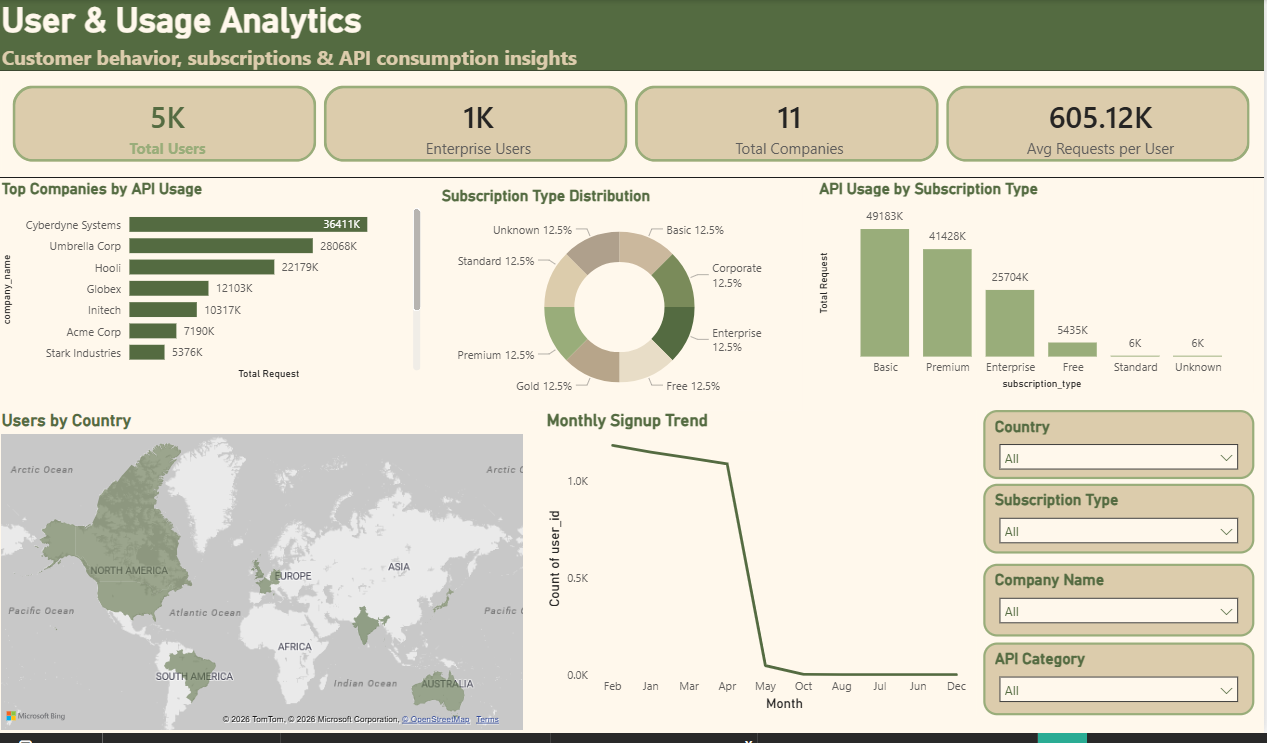

This screenshot's page, from the dashboard's own definition file:
{"tool":"powerbi","page":{"name":"User & Usage Analytics","canvas":[1366,790],"ordinal":2},"visuals":[{"type":"cardVisual","fields":{"Data":["Measure.Total Users","Measure.Enterprise Users","Measure.Total Companies","Measure.Avg Requests per User"]},"box":[0,76,1366.7,116],"z":0},{"type":"textbox","title":"User & Usage Analytics","box":[0,0,1366.7,76],"z":1000},{"type":"lineChart","title":"Monthly Signup Trend","fields":{"Y":["CountNonNull(api_usage.user_id)"],"Category":["DateTable.Month"]},"box":[586.7,441.3,468,329.3],"z":2000},{"type":"donutChart","title":"Subscription Type Distribution","fields":{"Y":["CountNonNull(api_logs.log_id)"],"Category":["users.subscription_type"]},"box":[473.3,200,393.3,241.3],"z":4000},{"type":"slicer","title":"Country","fields":{"Values":["users.country"]},"box":[1062.2,441.6,292.1,74],"z":5000},{"type":"slicer","title":"Company Name","fields":{"Values":["users.company_name"]},"box":[1062.2,607.2,292.1,78.1],"z":6000},{"type":"slicer","title":"Subscription Type","fields":{"Values":["users.subscription_type"]},"box":[1062.2,521,292.1,75.4],"z":7000},{"type":"clusteredBarChart","title":"Top Companies by API Usage","fields":{"Category":["users.company_name"],"Y":["Measure.Total Request"]},"box":[0,192,461.3,221.3],"z":8000},{"type":"clusteredColumnChart","title":"API Usage by Subscription Type","fields":{"Y":["Measure.Total Request"],"Category":["users.subscription_type"]},"box":[880.5,192.5,472.5,231.6],"z":9000},{"type":"slicer","title":"API Category","fields":{"Values":["apis.api_category"]},"box":[1062.2,692,292.1,78.1],"z":10000},{"type":"filledMap","title":"Users by Country","fields":{"Category":["users.country"]},"box":[0,441.3,570.7,349.3],"z":11000}]}

Visuals, with their boxes in screenshot pixels (x1, y1, x2, y2), scaled from the page's 1366x790 canvas onto the 1267x743 screenshot:
cardVisual - Measure.Total Users x Measure.Enterprise Users: [left=0, top=71, right=1266, bottom=181]
"User & Usage Analytics" textbox: [left=0, top=0, right=1266, bottom=71]
"Monthly Signup Trend" lineChart: [left=544, top=415, right=978, bottom=725]
"Subscription Type Distribution" donutChart: [left=439, top=188, right=804, bottom=415]
"Country" slicer: [left=985, top=415, right=1256, bottom=485]
"Company Name" slicer: [left=985, top=571, right=1256, bottom=645]
"Subscription Type" slicer: [left=985, top=490, right=1256, bottom=561]
"Top Companies by API Usage" clusteredBarChart: [left=0, top=181, right=428, bottom=389]
"API Usage by Subscription Type" clusteredColumnChart: [left=817, top=181, right=1255, bottom=399]
"API Category" slicer: [left=985, top=651, right=1256, bottom=724]
"Users by Country" filledMap: [left=0, top=415, right=529, bottom=742]
